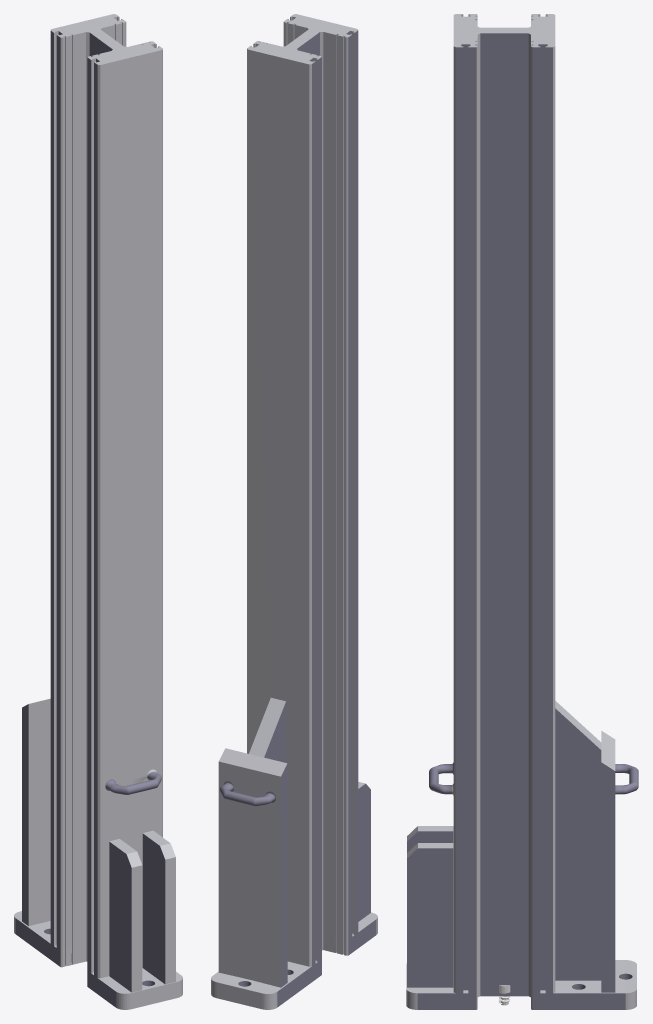
File: MobileFloodOptimzed_withRightScale.fbx
The picture shows the model from 3 angles, left to right: view 1: azimuth 30°, elevation 25°; view 2: azimuth 150°, elevation 25°; view 3: azimuth 270°, elevation 25°; orthographic projection. The views are drawn at different scales.
Visible parts, largest first — view 1: Balken; view 2: Balken; view 3: Balken.
Boxes of the visible parts, left/top/right/bottom form: Balken: left=14, top=14, right=182, bottom=1009; Balken: left=211, top=14, right=377, bottom=1009; Balken: left=406, top=14, right=638, bottom=1009.
Bounding box in the file's own units: 17 × 232 × 50.36.
